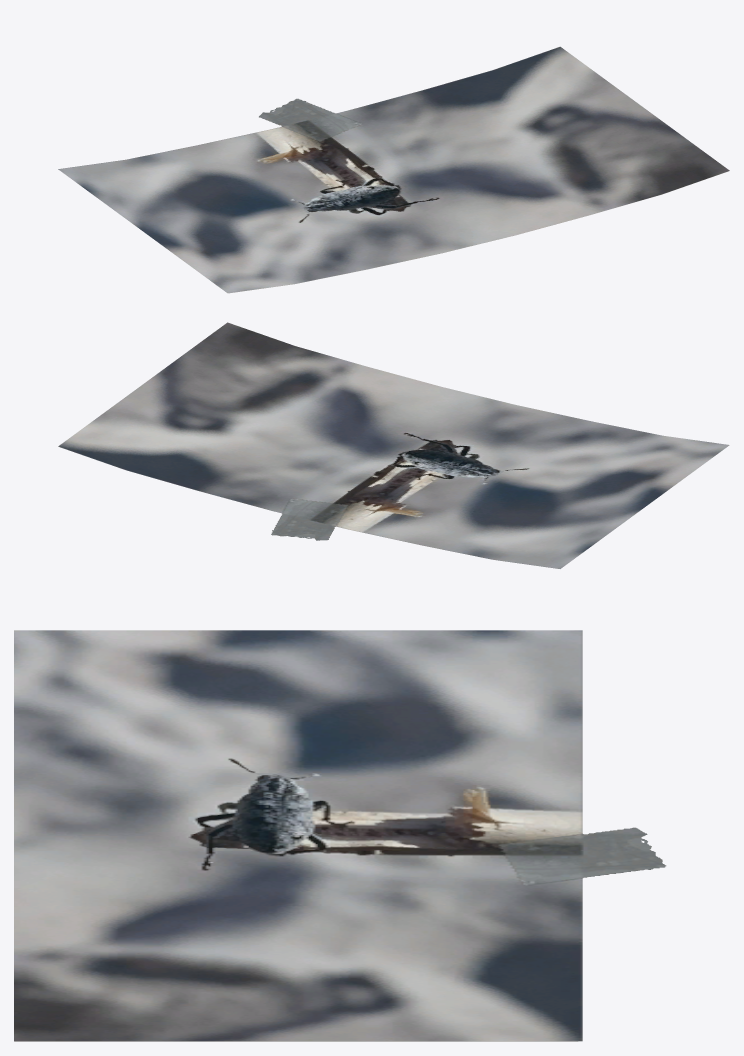
The model's file is 00_01_photos_holiday2.dae.
3 views of the same model, one above another, from view 1: azimuth 30°, elevation 25°; view 2: azimuth 150°, elevation 25°; view 3: azimuth 270°, elevation 25° (orthographic). The views are drawn at different scales.
Visible parts, largest first — view 1: Plane; view 2: Plane; view 3: Plane.
Boxes of the visible parts, left/top/right/bottom form: Plane: left=58, top=46, right=729, bottom=293; Plane: left=58, top=322, right=729, bottom=568; Plane: left=14, top=630, right=666, bottom=1041.
Size of the model in its own units: 0.2511 by 0.1848 by 0.00589.
1 material, 1 textured.
